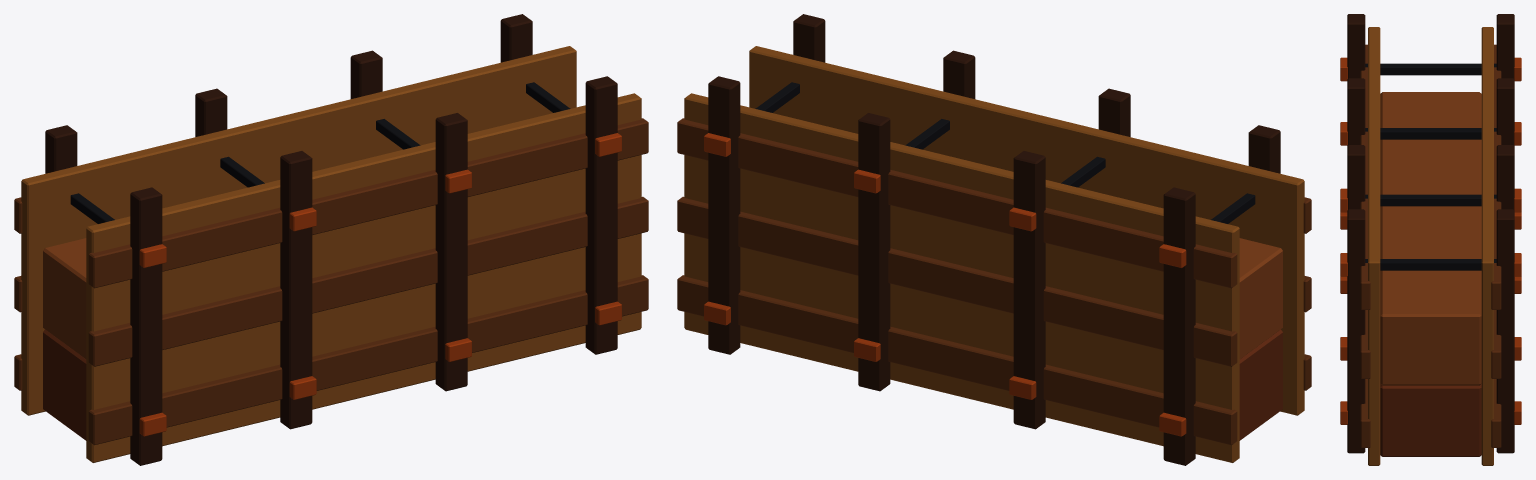
Rendered from mod_sliding_earth_formwork_2m.glb.
The picture shows the model from 3 angles, left to right: view 1: azimuth 30°, elevation 25°; view 2: azimuth 150°, elevation 25°; view 3: azimuth 270°, elevation 25°; orthographic projection. The views are drawn at different scales.
Parts seen in each view (by area): view 1: Mod_Sliding_Earth_Formwork_2m; view 2: Mod_Sliding_Earth_Formwork_2m; view 3: Mod_Sliding_Earth_Formwork_2m.
Boxes of the visible parts, x1,y1,x2,y2 form: Mod_Sliding_Earth_Formwork_2m: (14, 14, 648, 465); Mod_Sliding_Earth_Formwork_2m: (677, 14, 1311, 465); Mod_Sliding_Earth_Formwork_2m: (1340, 14, 1521, 465).
Bounding box in the file's own units: 2 × 0.92 × 0.644.
